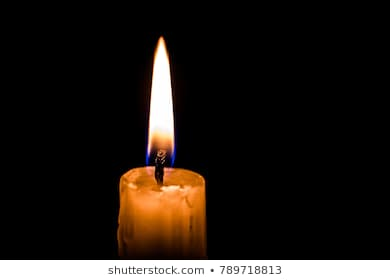Fire: (150, 35, 177, 166)
